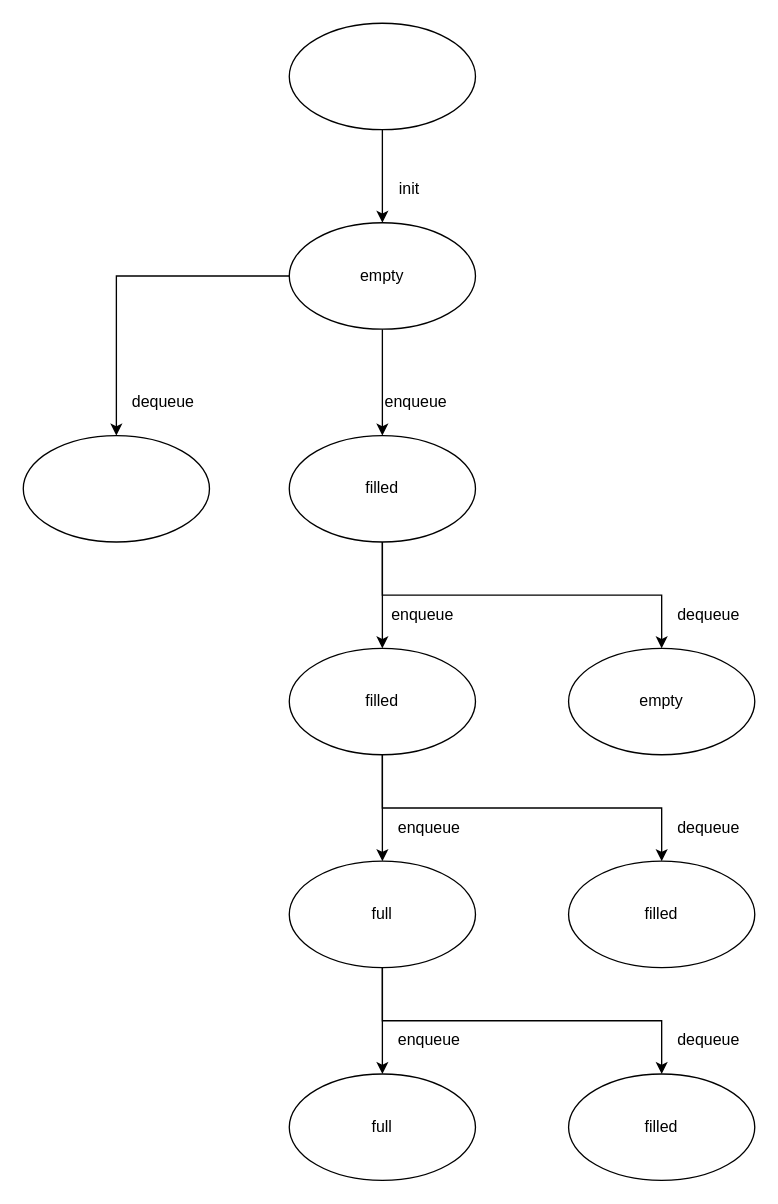
This 778x1204 diagram has some shape labels left out. The shapes that lost their labels are listed below. From the top down, each one's centre as x and y in pixels, then its label:
At pixel 381 76: "Initial".
At pixel 115 488: "Error".
